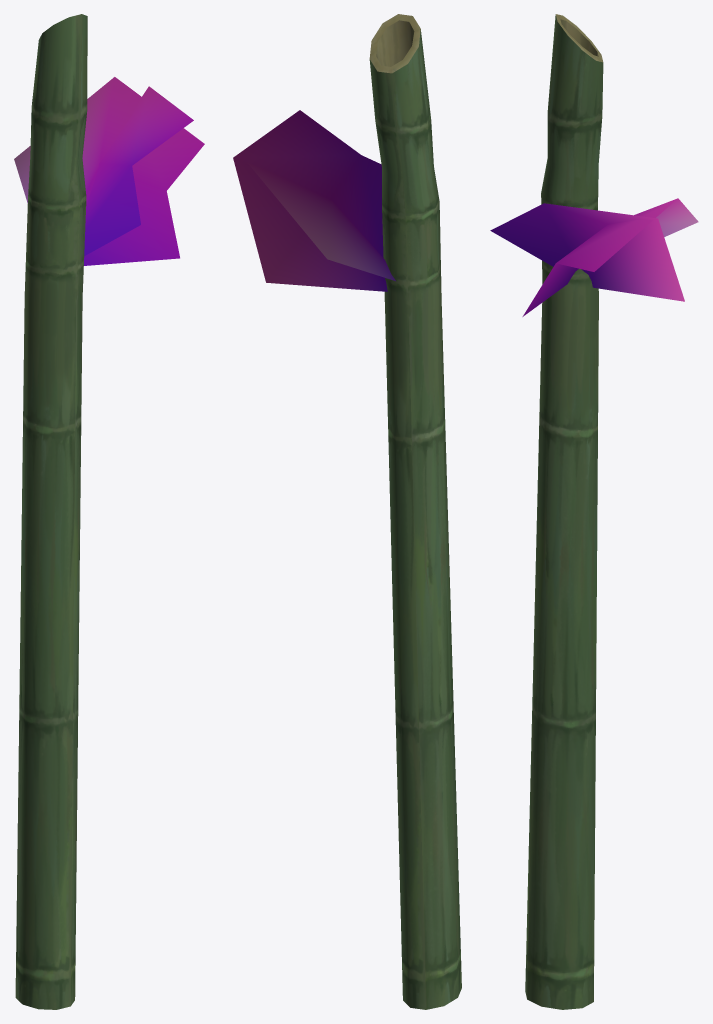
File: SM_EastLands_Bamboo_Small_01_Stump.fbx
3 renders of one model, left to right at view 1: azimuth 30°, elevation 25°; view 2: azimuth 150°, elevation 25°; view 3: azimuth 270°, elevation 25°, orthographic. The views are drawn at different scales.
Parts seen in each view (by area): view 1: SM_EastLands_Bamboo_Small_01_Stump_LOD0; view 2: SM_EastLands_Bamboo_Small_01_Stump_LOD0; view 3: SM_EastLands_Bamboo_Small_01_Stump_LOD0.
Part boxes in pixels (x1,y1,x2,y2): SM_EastLands_Bamboo_Small_01_Stump_LOD0: [14, 14, 204, 1009]; SM_EastLands_Bamboo_Small_01_Stump_LOD0: [233, 14, 461, 1009]; SM_EastLands_Bamboo_Small_01_Stump_LOD0: [490, 14, 698, 1009].
Size of the model in its own units: 75.02 by 350 by 66.45.
